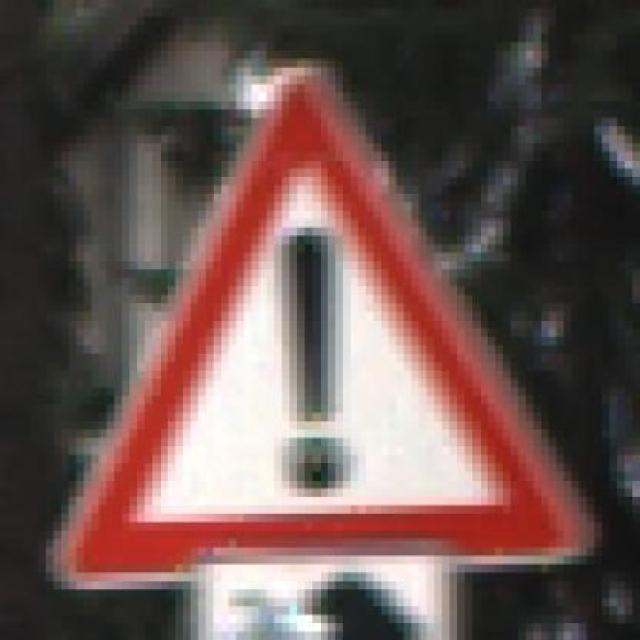Attention Please-: (61, 67, 579, 598)
